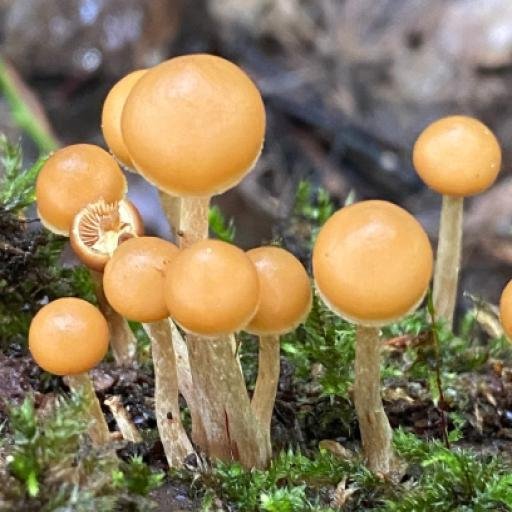mushroom: (33, 52, 500, 397)
